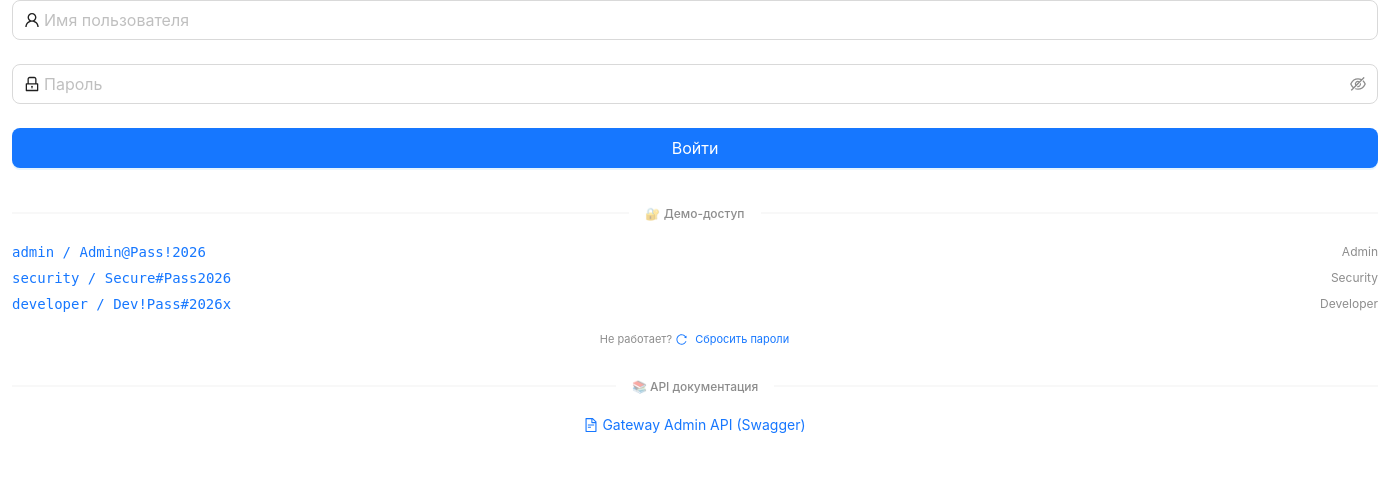
Test: LoginForm › показывает validation errors для пустых полей
The width and height of the screenshot is (1390, 494).
Кликаем на кнопку без заполнения полей
Click the button with test id "login-button" at x=695, y=148, box [12,128,1378,168]
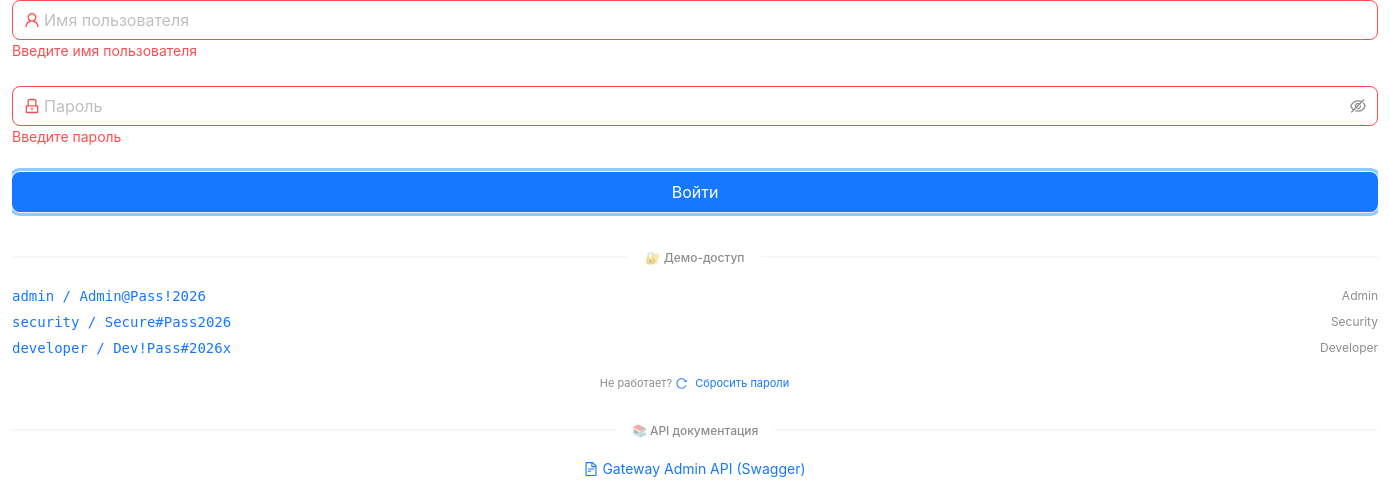
Now the text "Введите имя пользователя" is shown, box [12,42,197,59]
Now the text "Введите пароль" is shown, box [12,128,121,145]
